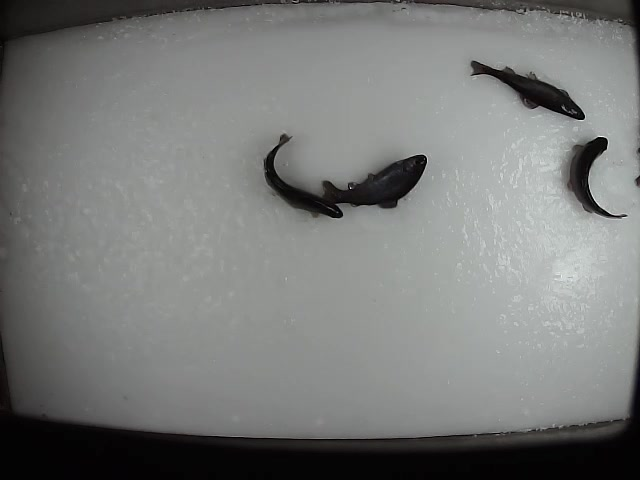Fish: (469, 60, 585, 120), (264, 133, 343, 218), (321, 154, 427, 209), (567, 136, 628, 219)
